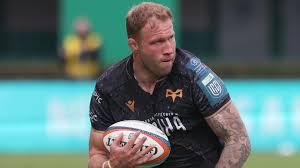ballon_rugby: (103, 119, 171, 168)
